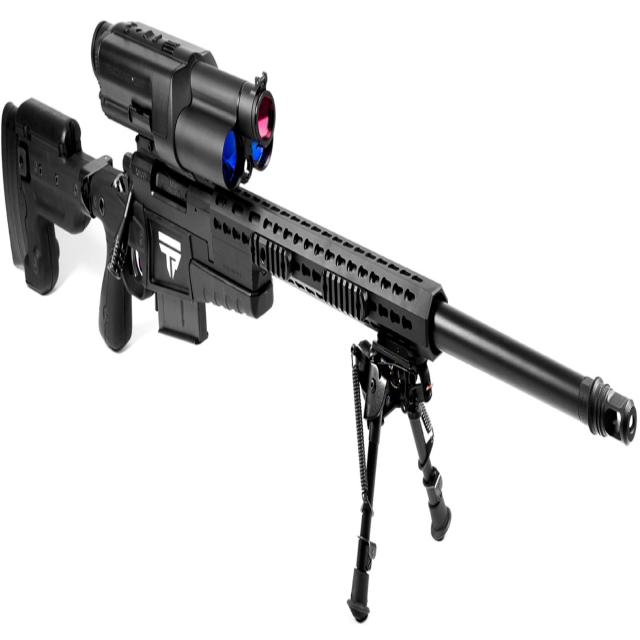Rifle: (3, 21, 637, 444)
